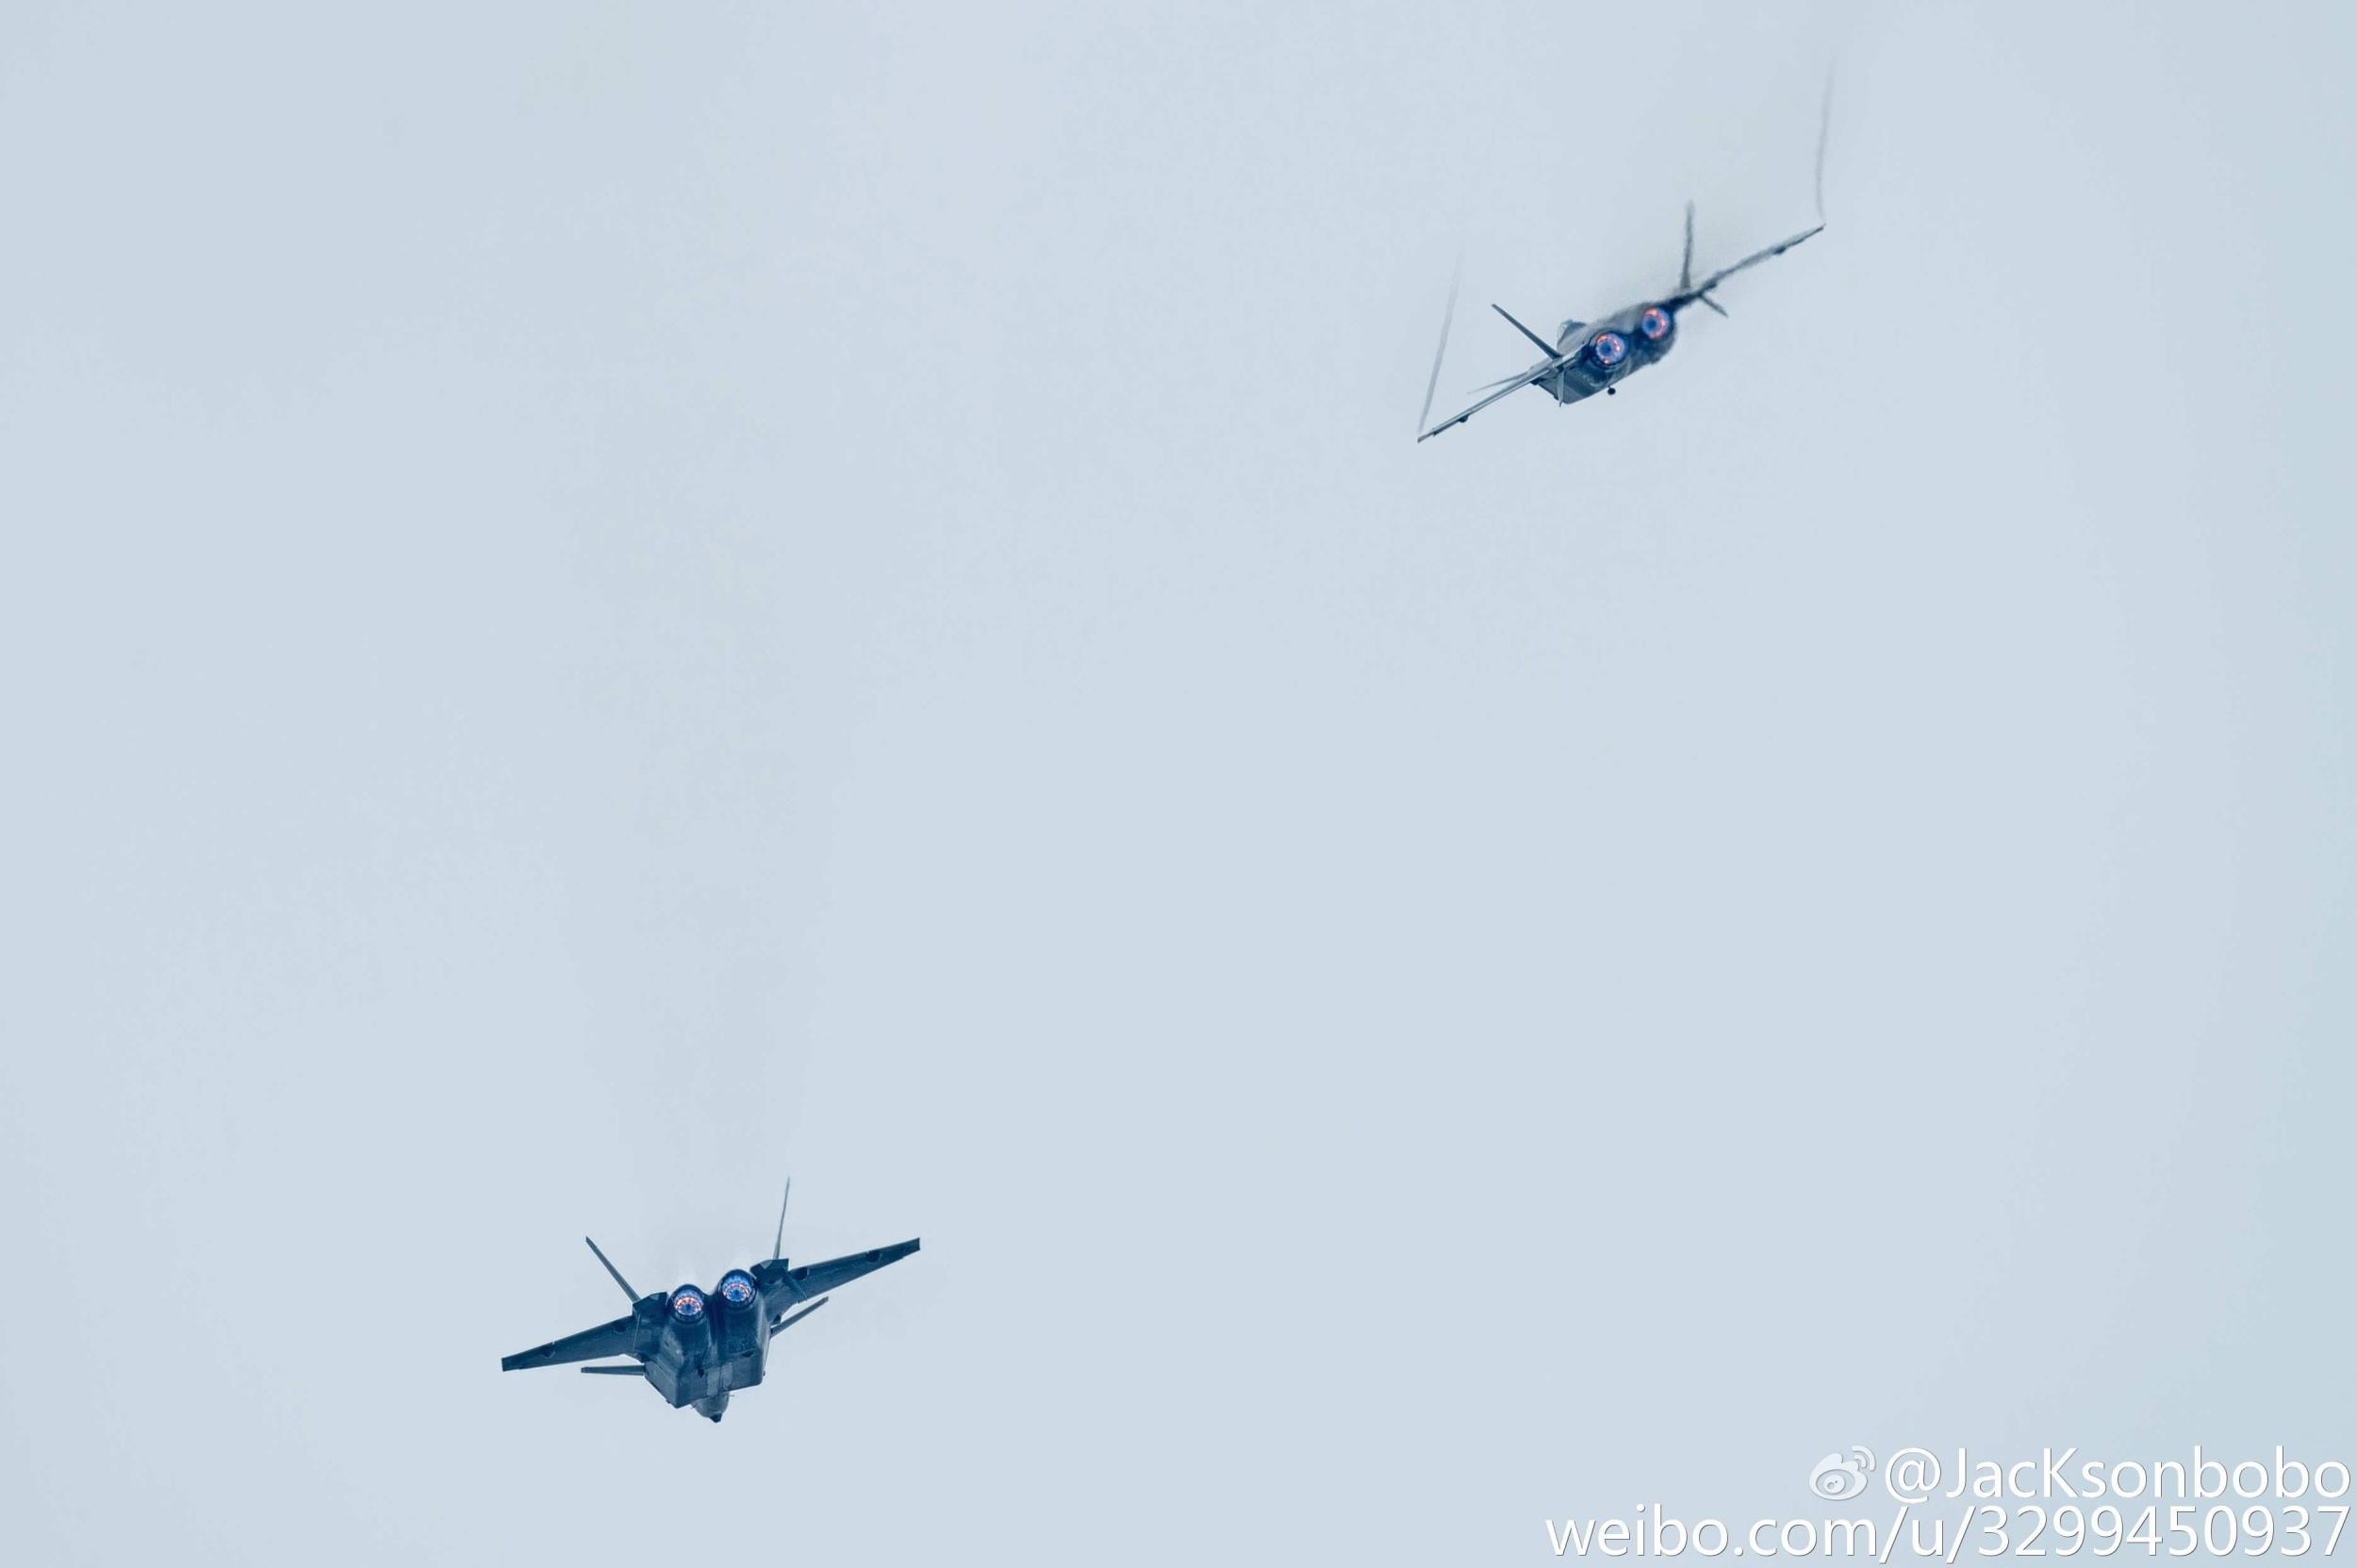J20: (500, 1176, 920, 1425), (1416, 200, 1829, 445)
